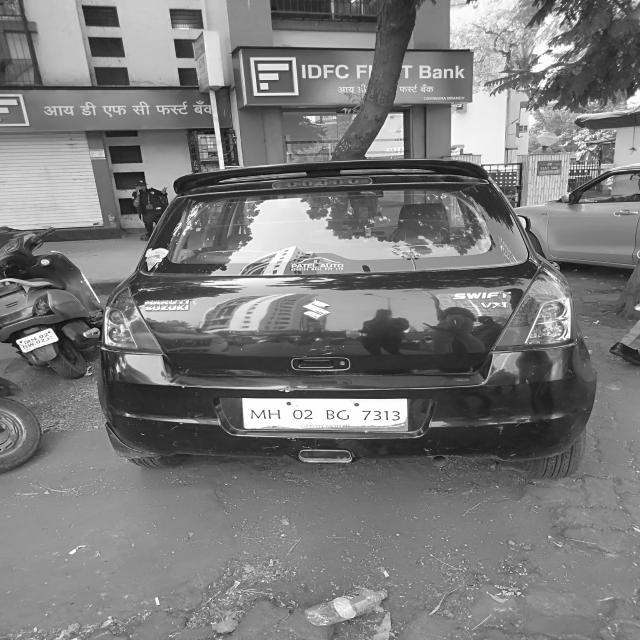bike: (2, 230, 105, 378)
car: (101, 163, 605, 492)
license-plate: (238, 396, 410, 432), (17, 329, 58, 357)
